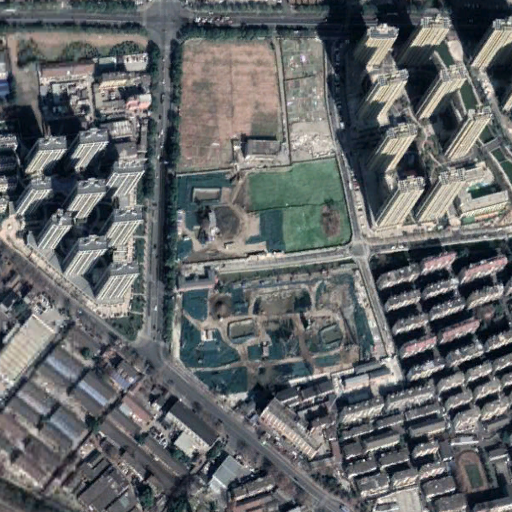cw: (169, 27, 383, 392)
